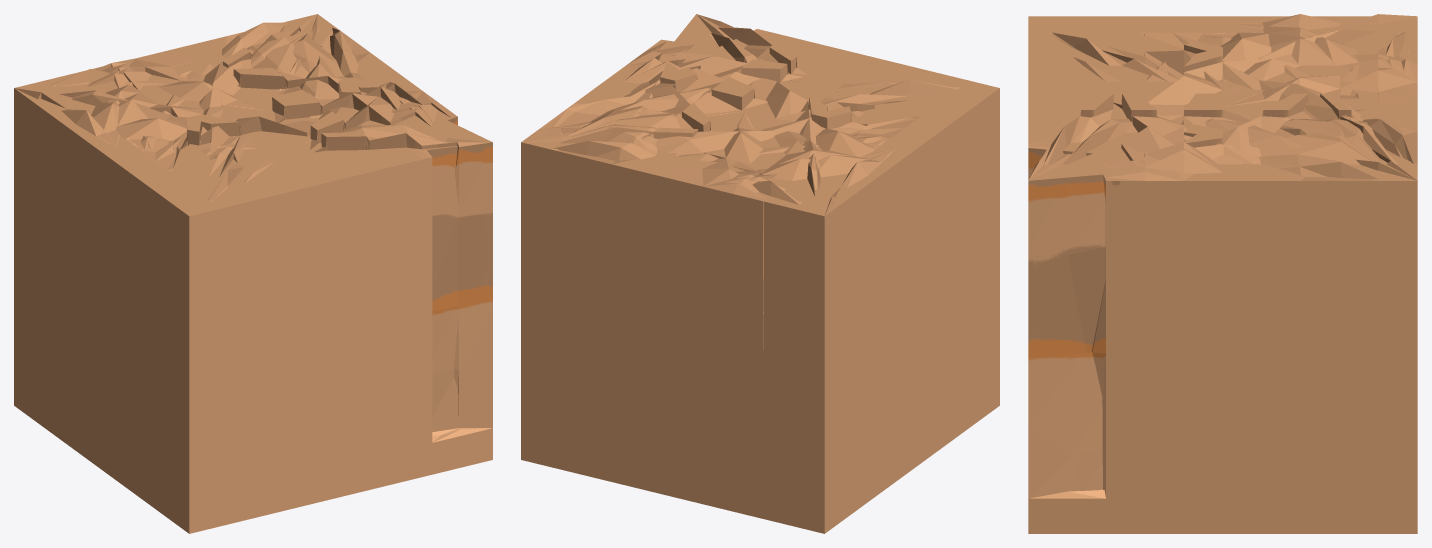
Rendered from inverseCornerWithBlendShape.fbx.
The picture shows the model from 3 angles, left to right: view 1: azimuth 30°, elevation 25°; view 2: azimuth 150°, elevation 25°; view 3: azimuth 270°, elevation 25°; orthographic projection. The views are drawn at different scales.
Parts seen in each view (by area): view 1: InverseCorner, NØY, NØX, NVY, SVX, NVX, SØX, SVY, SØY; view 2: InverseCorner, NVY, NØY, SVX, SØX, SØY, NØX, NVX, SVY; view 3: InverseCorner, SVX, NØX, NVX, NVY, NØY, SØX, SVY, SØY.
Part boxes in pixels (bbox=[...]): InverseCorner: bbox=[14, 14, 492, 533]; NØY: bbox=[16, 89, 492, 442]; NØX: bbox=[14, 88, 435, 441]; NVY: bbox=[192, 14, 457, 442]; SVX: bbox=[15, 15, 492, 142]; NVX: bbox=[190, 14, 454, 215]; SØX: bbox=[32, 15, 314, 204]; SVY: bbox=[46, 15, 453, 124]; SØY: bbox=[33, 14, 316, 215]; InverseCorner: bbox=[521, 29, 999, 533]; NVY: bbox=[523, 30, 993, 141]; NØY: bbox=[696, 14, 995, 214]; SVX: bbox=[526, 14, 823, 310]; SØX: bbox=[539, 91, 988, 350]; SØY: bbox=[522, 91, 992, 207]; NØX: bbox=[724, 29, 998, 215]; NVX: bbox=[522, 29, 993, 141]; SVY: bbox=[524, 42, 821, 215]; InverseCorner: bbox=[1028, 16, 1417, 533]; SVX: bbox=[1028, 18, 1417, 498]; NØX: bbox=[1028, 14, 1416, 146]; NVX: bbox=[1028, 16, 1416, 490]; NVY: bbox=[1028, 25, 1415, 496]; NØY: bbox=[1028, 16, 1411, 180]; SØX: bbox=[1050, 16, 1417, 179]; SVY: bbox=[1108, 19, 1417, 180]; SØY: bbox=[1034, 16, 1417, 179].
Size of the model in its own units: 100 by 105 by 100.
Materials: 1 (1 with a texture image).
